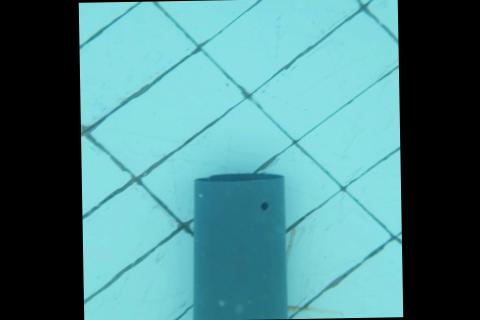kebocoran: (258, 201, 268, 211)
